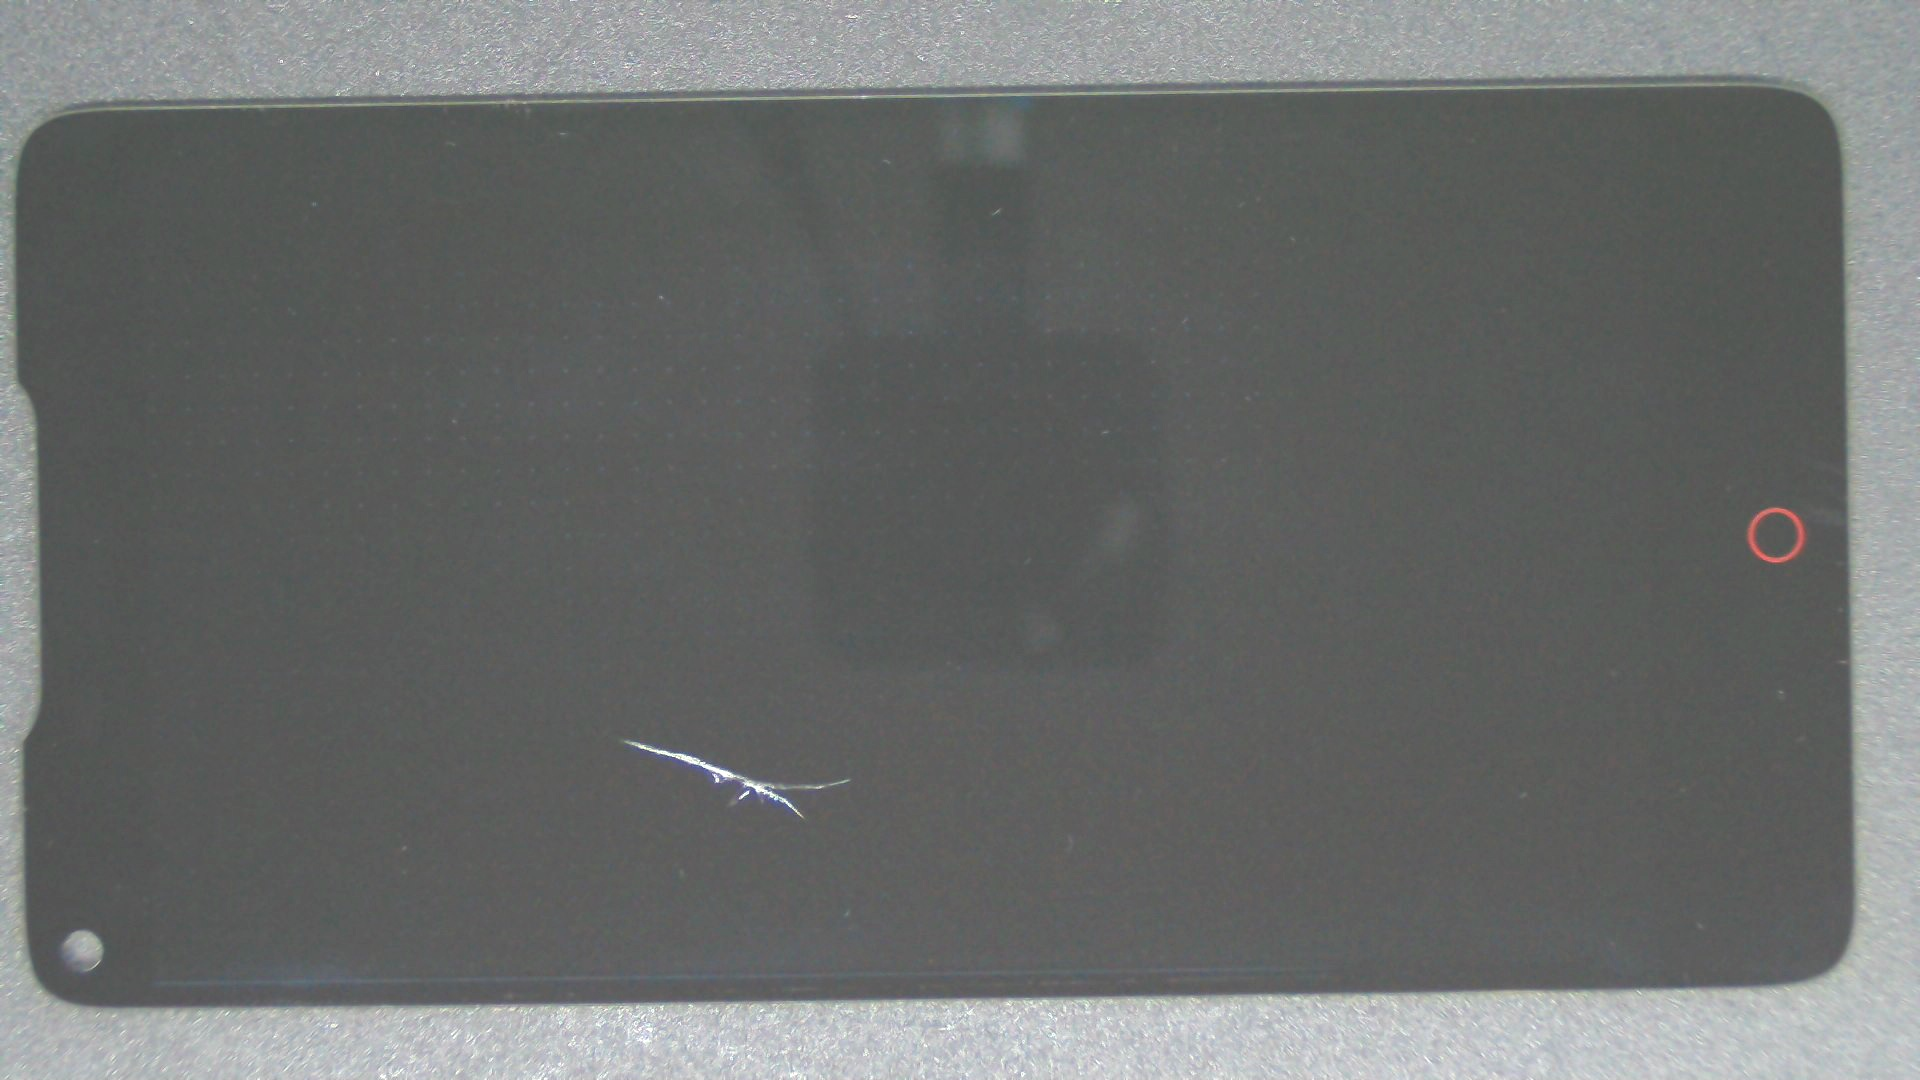oil: (311, 369, 935, 1080)
